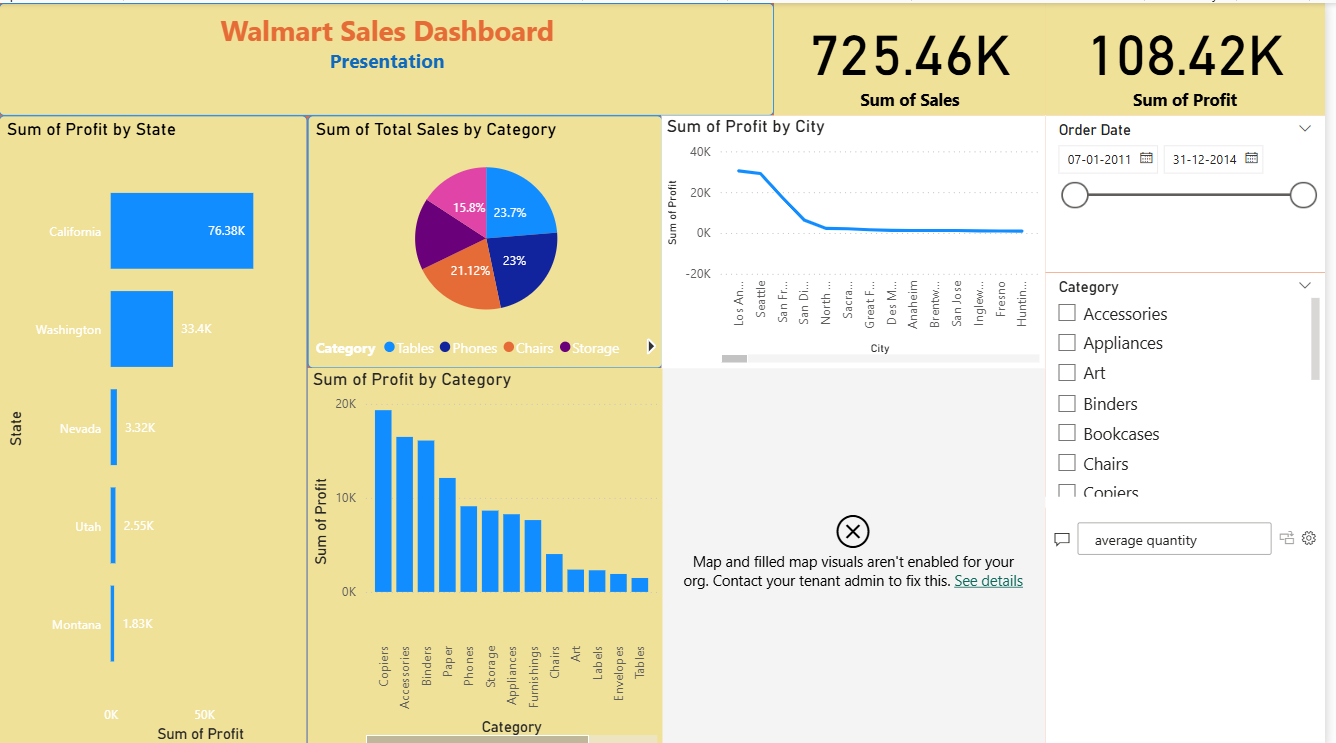

What the dashboard file says about the page in this screenshot:
{"tool":"powerbi","page":{"name":"Walmart Sales Analysis","canvas":[1280,720],"ordinal":0},"visuals":[{"type":"barChart","fields":{"Y":["Sum(Walmart.Profit)"],"Category":["Walmart.State"]},"box":[0,108.8,297.5,611.2],"z":0},{"type":"pieChart","fields":{"Category":["Walmart.Category"],"Y":["Sum(Walmart.Total Sales)"]},"box":[297.5,108.8,342.5,243.8],"z":1000},{"type":"card","fields":{"Values":["Sum(Walmart.Sales)"]},"box":[747.5,0,262.5,108.8],"z":2000},{"type":"card","fields":{"Values":["Sum(Walmart.Profit)"]},"box":[1010,0,270,108.8],"z":3000},{"type":"textbox","box":[0,0,747.8,108.9],"z":4000},{"type":"map","fields":{"Category":["Walmart.City"],"Size":["Sum(Walmart.Sales)"]},"box":[640,352.5,370,367.5],"z":5000},{"type":"slicer","fields":{"Values":["Walmart.Order Date"]},"box":[1010,108.8,270,151.2],"z":6000},{"type":"columnChart","fields":{"Y":["Sum(Walmart.Profit)"],"Category":["Walmart.Category"]},"box":[297.5,352.5,342.5,367.5],"z":7000},{"type":"slicer","fields":{"Values":["Walmart.Category"]},"box":[1010,260,270,226.2],"z":8000},{"type":"qnaVisual","box":[1010,476.2,270,243.8],"z":9000},{"type":"lineChart","fields":{"Y":["Sum(Walmart.Profit)"],"Category":["Walmart.City"]},"box":[640,108.8,370,243.8],"z":10000}]}

Visuals, with their boxes on the page's 1280x720 design canvas (x1, y1, x2, y2). These are canvas units, not pixel positions in the 1336x743 screenshot, which may show the page scaled, cropped or inside an application window:
barChart - Sum(Walmart.Profit) x Walmart.State: x1=0 y1=109 x2=298 y2=720
pieChart - Walmart.Category x Sum(Walmart.Total Sales): x1=298 y1=109 x2=640 y2=353
card - Sum(Walmart.Sales): x1=748 y1=0 x2=1010 y2=109
card - Sum(Walmart.Profit): x1=1010 y1=0 x2=1280 y2=109
textbox: x1=0 y1=0 x2=748 y2=109
map - Walmart.City x Sum(Walmart.Sales): x1=640 y1=352 x2=1010 y2=720
slicer - Walmart.Order Date: x1=1010 y1=109 x2=1280 y2=260
columnChart - Sum(Walmart.Profit) x Walmart.Category: x1=298 y1=352 x2=640 y2=720
slicer - Walmart.Category: x1=1010 y1=260 x2=1280 y2=486
qnaVisual: x1=1010 y1=476 x2=1280 y2=720
lineChart - Sum(Walmart.Profit) x Walmart.City: x1=640 y1=109 x2=1010 y2=353
